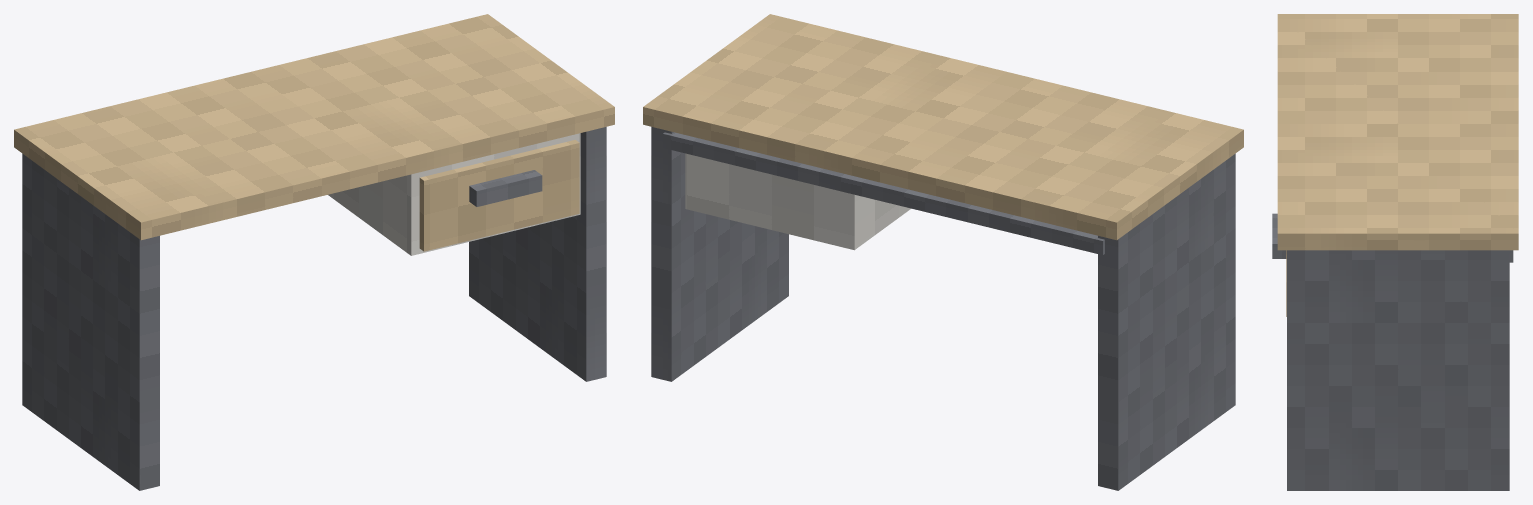
The model's file is pixel-modern-apartments-desk-4c152b3b__29841.glb.
The picture shows the model from 3 angles, left to right: view 1: azimuth 30°, elevation 25°; view 2: azimuth 150°, elevation 25°; view 3: azimuth 270°, elevation 25°; orthographic projection. The views are drawn at different scales.
Parts seen in each view (by area): view 1: desk, drawer-1/oak, drawer-1/charcoal; view 2: desk; view 3: desk, drawer-1/charcoal.
Boxes of the visible parts, left/top/right/bottom form: desk: left=14, top=14, right=614, bottom=490; drawer-1/oak: left=419, top=139, right=579, bottom=251; drawer-1/charcoal: left=469, top=170, right=542, bottom=206; desk: left=643, top=14, right=1243, bottom=490; desk: left=1277, top=14, right=1518, bottom=490; drawer-1/charcoal: left=1272, top=213, right=1286, bottom=258.
Bounding box in the file's own units: 1.4 × 0.7701 × 0.6645.
Materials: 3 (3 with a texture image).
